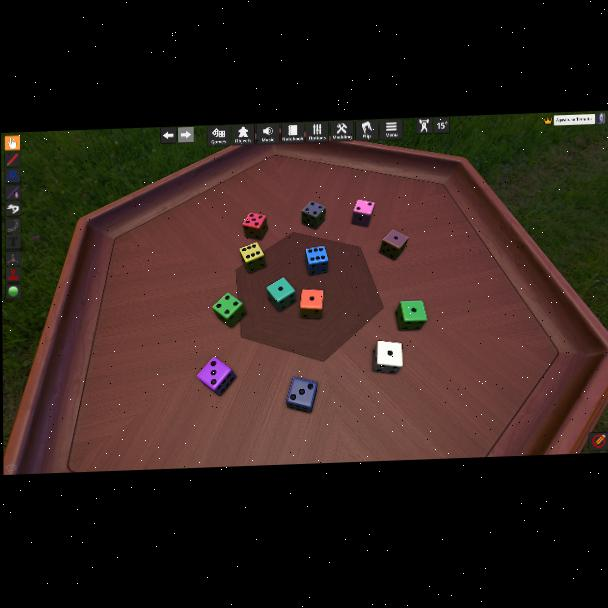d6: (196, 355, 233, 395), (286, 376, 318, 414), (212, 293, 244, 329), (266, 278, 296, 314), (373, 339, 402, 374), (379, 230, 407, 263), (396, 299, 425, 330), (240, 241, 266, 274), (242, 212, 267, 242), (304, 246, 328, 277), (300, 289, 324, 318), (302, 202, 326, 231), (352, 199, 374, 229)
